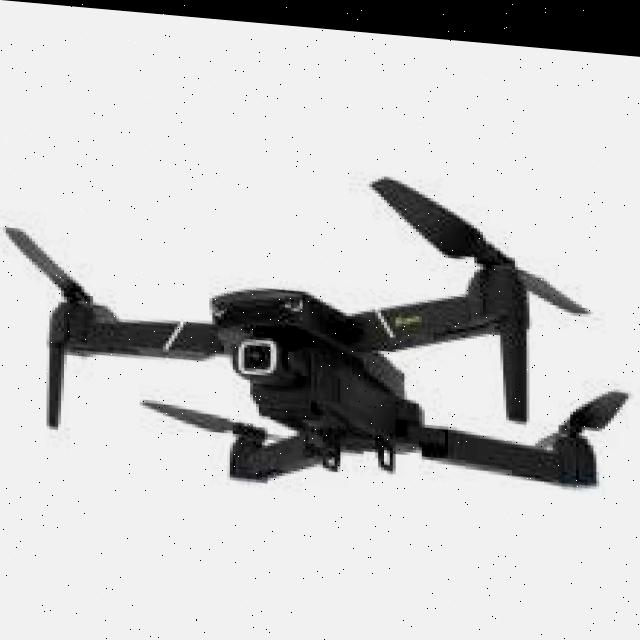drone: (0, 153, 640, 521)
